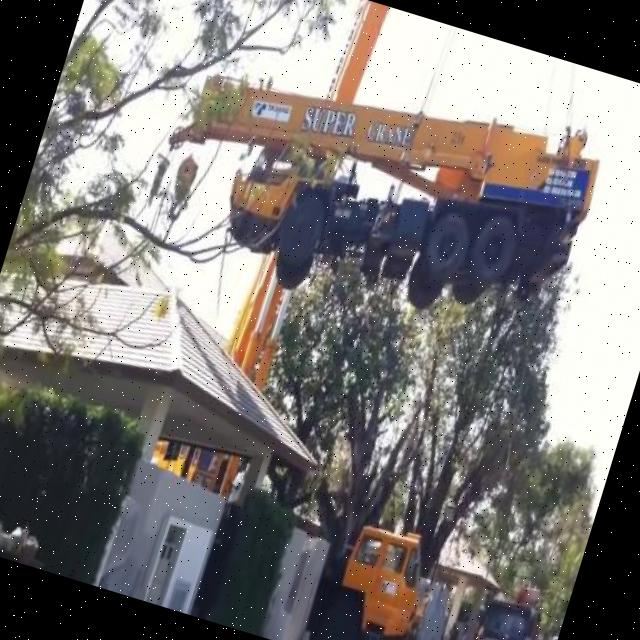Mobile Crane: (107, 0, 588, 640), (133, 22, 607, 366)
